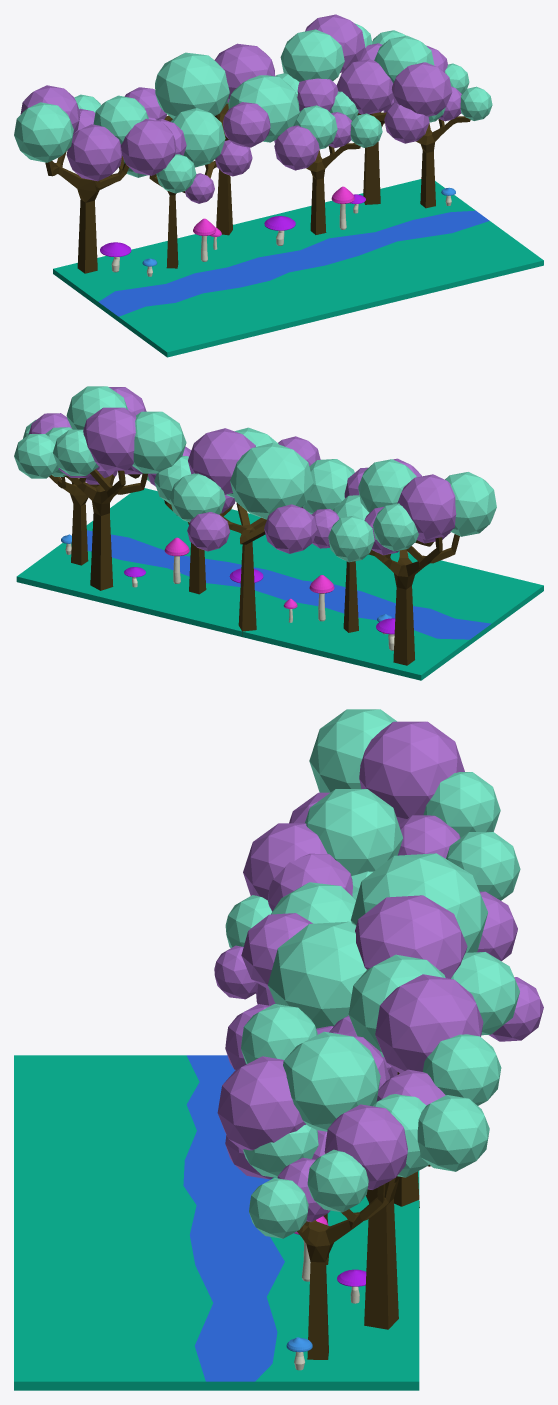
File: Escenario Bosque Cósmico.glb
3 renders of one model, top to bottom at view 1: azimuth 30°, elevation 25°; view 2: azimuth 150°, elevation 25°; view 3: azimuth 270°, elevation 25°, orthographic. The views are drawn at different scales.
Parts seen in each view (by area): view 1: Cube, Arbol 1, Arbol 1.002, Arbol 2.001, Arbol 1.001, Arbol 2, Arbol 1.003, Hongo 1, Hongo 1.002, Hongo 2.002, Hongo 2; view 2: Cube, Arbol 2.001, Arbol 1, Arbol 1.002, Arbol 2, Arbol 1.003, Arbol 1.001, Hongo 2.002, Hongo 2, Hongo 1; view 3: Cube, Arbol 1.002, Arbol 2.001, Arbol 1, Arbol 1.003, Arbol 2, Arbol 1.001.
Boxes of the visible parts, box(x1,y1,x2,y2) form: Cube: box(53, 179, 543, 357); Arbol 1: box(14, 85, 176, 273); Arbol 1.002: box(280, 14, 452, 204); Arbol 2.001: box(124, 43, 299, 235); Arbol 1.001: box(274, 73, 382, 234); Arbol 2: box(118, 108, 252, 268); Arbol 1.003: box(383, 45, 492, 208); Hongo 1: box(100, 242, 131, 272); Hongo 1.002: box(264, 216, 295, 245); Hongo 2.002: box(331, 186, 354, 229); Hongo 2: box(193, 218, 216, 261); Cube: box(16, 488, 543, 680); Arbol 2.001: box(169, 427, 320, 636); Arbol 1: box(328, 458, 496, 665); Arbol 1.002: box(14, 386, 186, 590); Arbol 2: box(301, 459, 369, 632); Arbol 1.003: box(23, 413, 117, 565); Arbol 1.001: box(147, 446, 235, 594); Hongo 2.002: box(164, 537, 189, 583); Hongo 2: box(309, 575, 334, 621); Hongo 1: box(376, 618, 395, 650); Cube: box(14, 1055, 419, 1390); Arbol 1.002: box(217, 954, 501, 1329); Arbol 2.001: box(241, 853, 543, 1207); Arbol 1: box(243, 709, 520, 900); Arbol 1.003: box(225, 1094, 428, 1359); Arbol 2: box(214, 853, 373, 1005); Arbol 1.001: box(225, 1004, 397, 1264).
Bounding box in the file's own units: 53.37 × 21.56 × 30.83.
